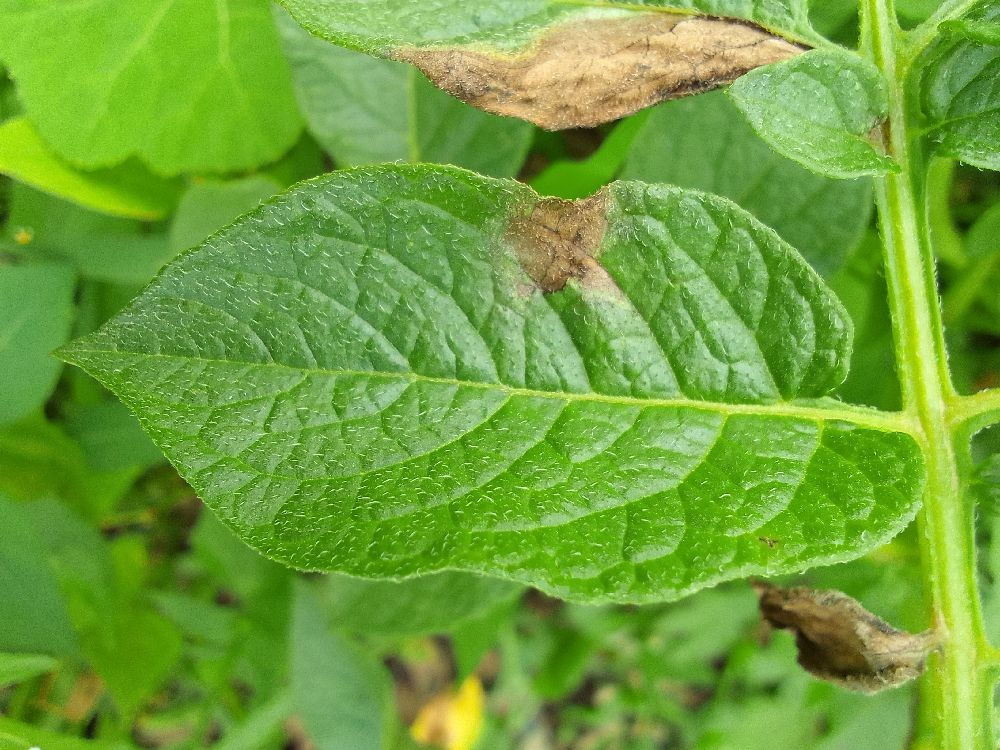late_blight: (353, 0, 834, 207), (739, 566, 959, 707), (369, 621, 511, 750), (497, 181, 627, 306)
